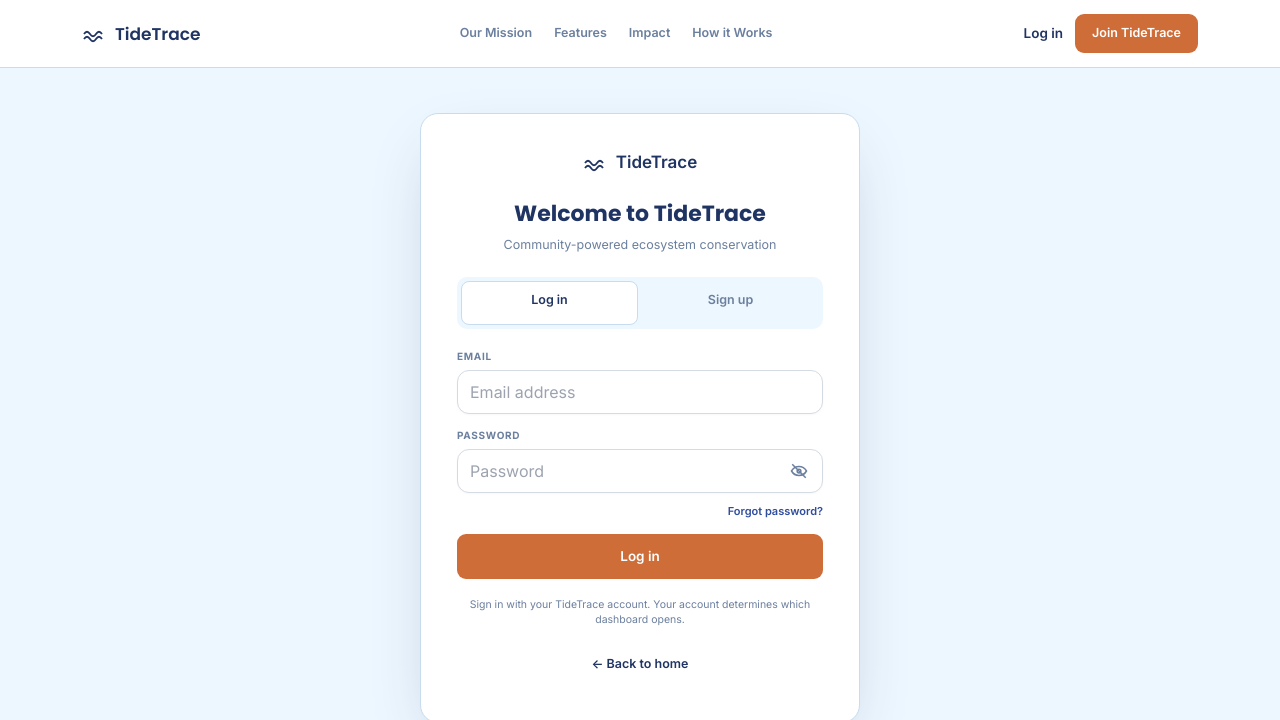
Test: backend authentication › never authenticates invalid credentials
The width and height of the screenshot is (1280, 720).
Type "member@example.test" into the field labelled "Email" at (640, 392), box [457,370,823,414]
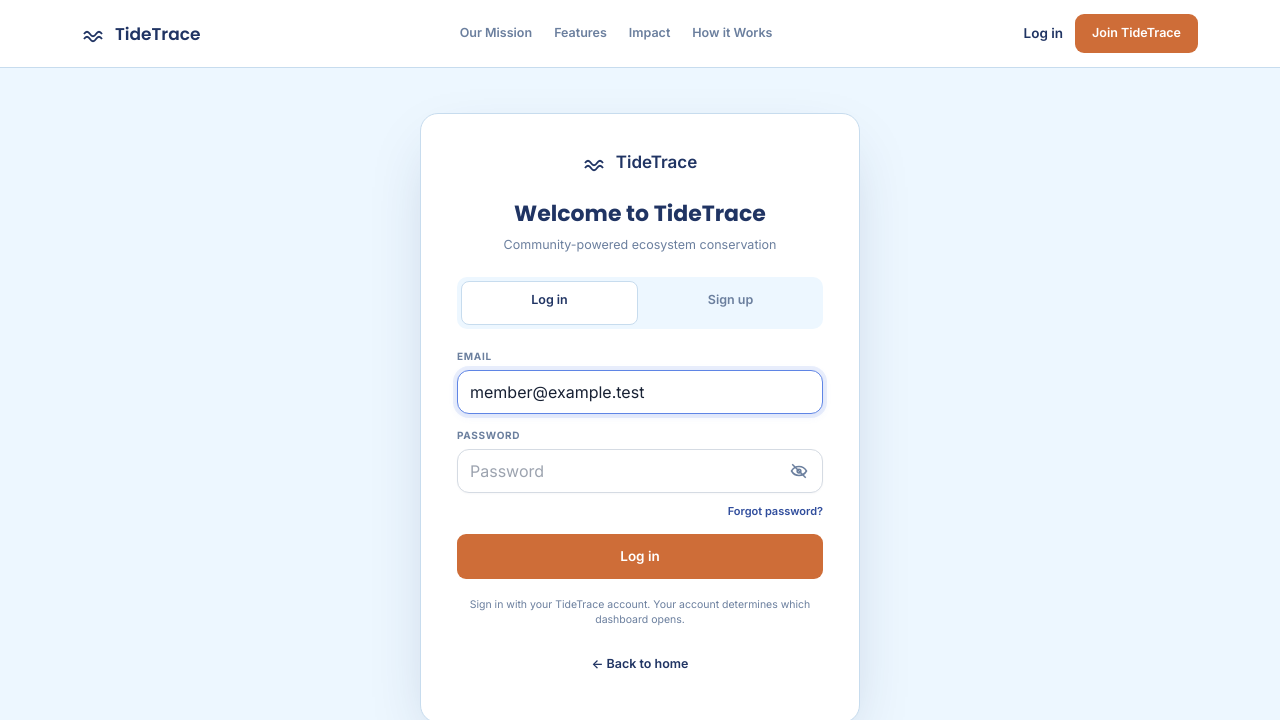
Type "correct-password" into the password field labelled "Password" at (640, 471), box [457,449,823,493]
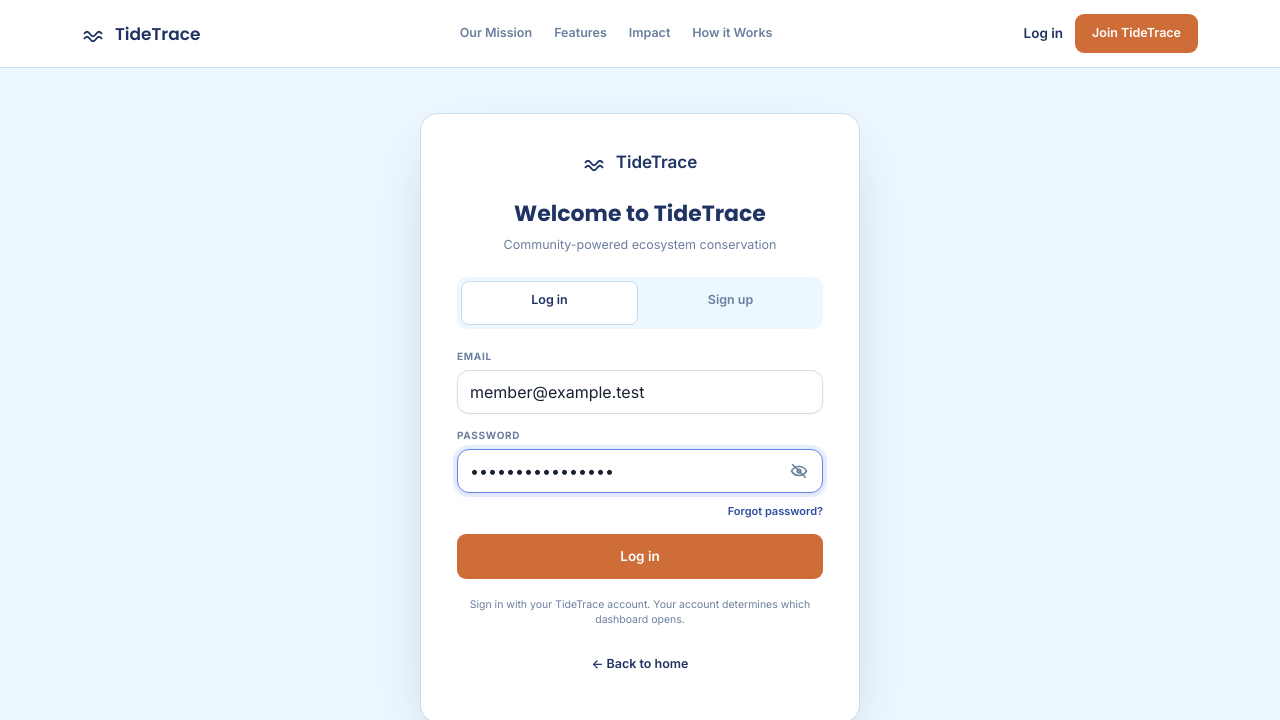
Click the button "Log in" at (640, 556), box [457,534,823,579]
(page scrolled)
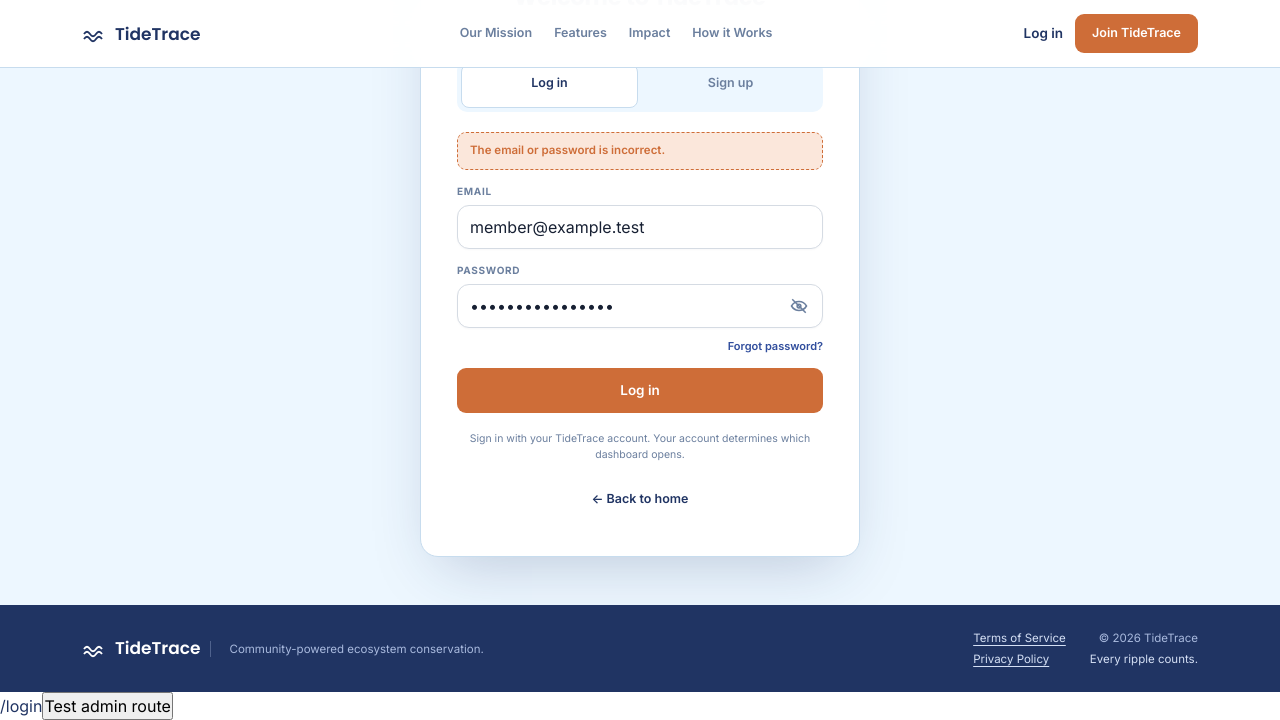
Expected: the text with test id "route" reads "/login", [0,696,42,716]
Expected: the message shows "incorrect", [470,143,665,157]
